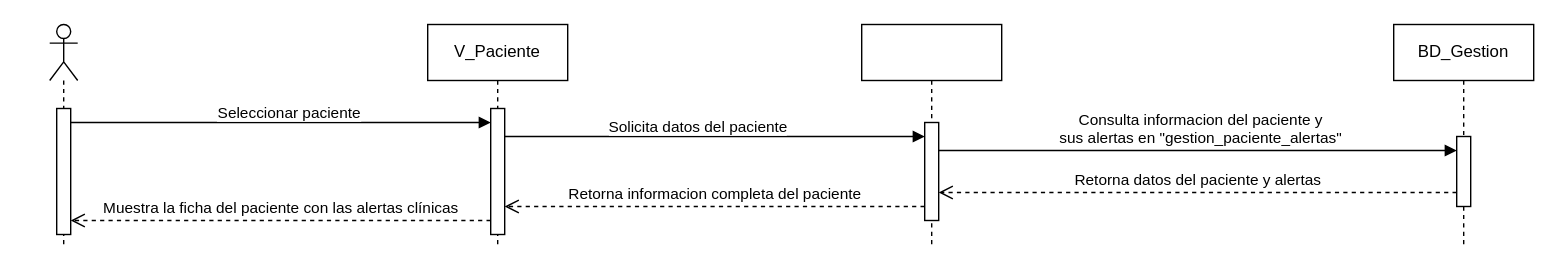
This 1558x273 diagram has some shape labels left out. Each missing label, with the centre of its shape:
"C_Paciente" belongs at (x=931, y=135).
"Veterinario" belongs at (x=63, y=135).
